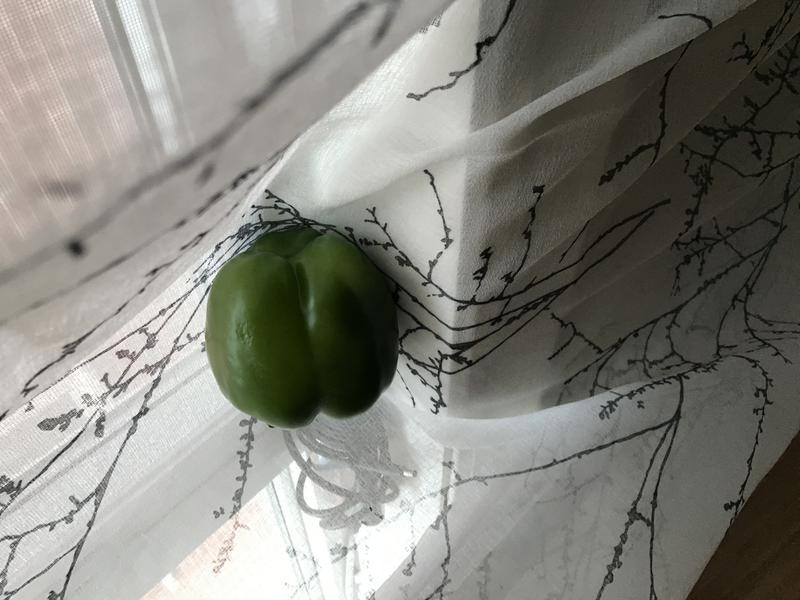green_pepper: (199, 209, 404, 437)
